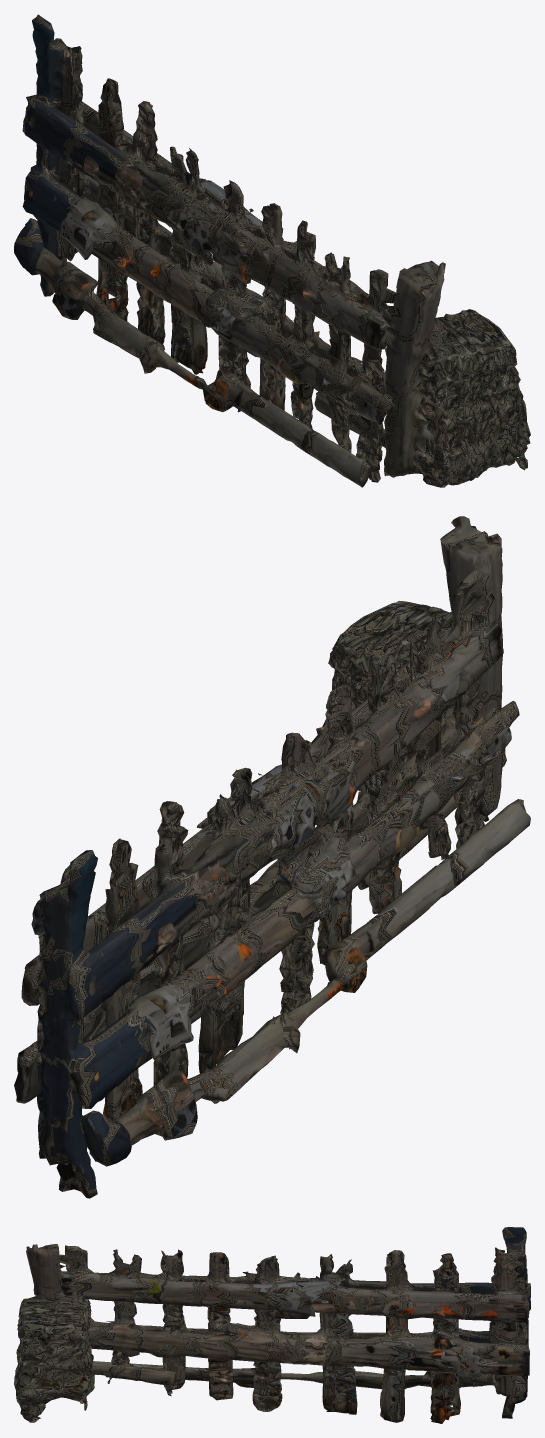
Rendered from سياج_خشبي.glb.
The picture shows the model from 3 angles, top to bottom: view 1: azimuth 30°, elevation 25°; view 2: azimuth 150°, elevation 25°; view 3: azimuth 270°, elevation 25°; orthographic projection. The views are drawn at different scales.
Parts seen in each view (by area): view 1: tripo_node_e0c37afc-10f7-484f-99f6-1b20a095e88e; view 2: tripo_node_e0c37afc-10f7-484f-99f6-1b20a095e88e; view 3: tripo_node_e0c37afc-10f7-484f-99f6-1b20a095e88e.
Boxes of the visible parts, x1=… form: tripo_node_e0c37afc-10f7-484f-99f6-1b20a095e88e: x1=14, y1=14, x2=530, y2=487; tripo_node_e0c37afc-10f7-484f-99f6-1b20a095e88e: x1=14, y1=516, x2=530, y2=1198; tripo_node_e0c37afc-10f7-484f-99f6-1b20a095e88e: x1=14, y1=1227, x2=530, y2=1423.
Bounding box in the file's own units: 0.2576 × 0.4053 × 1.
Materials: 1 (1 with a texture image).
